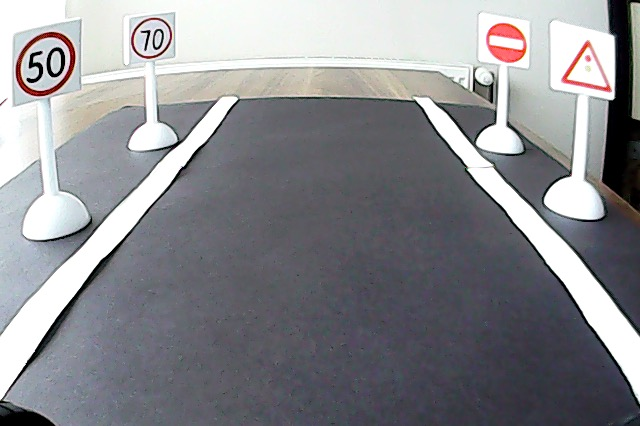do not enter: (482, 20, 530, 65)
red light: (557, 35, 614, 97)
speed limit 50: (13, 28, 78, 99)
speed limit 70: (129, 16, 174, 60)
